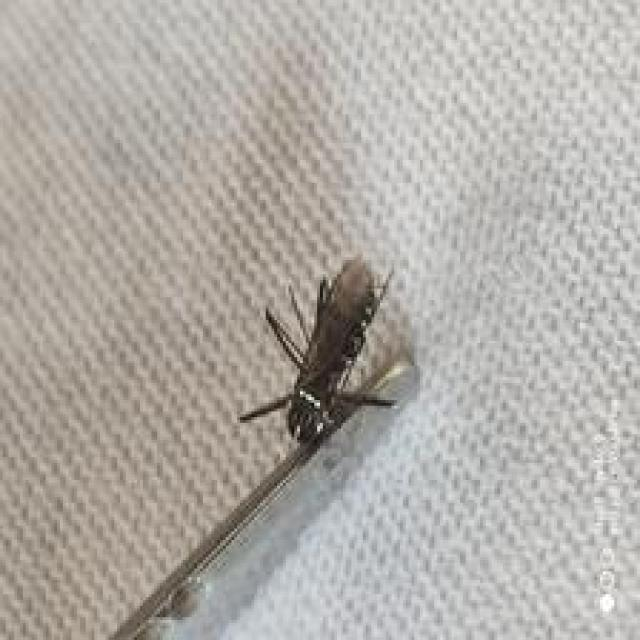Aedes albopictus: (236, 254, 404, 452)
